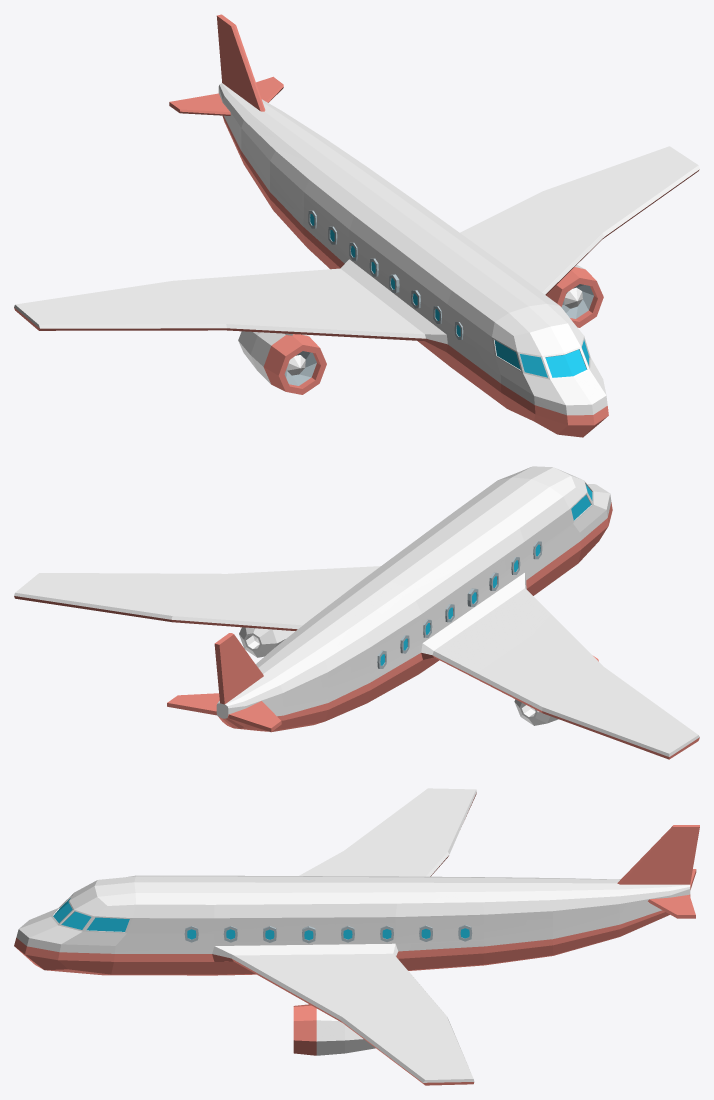
File: airplane_004.glb
The picture shows the model from 3 angles, top to bottom: view 1: azimuth 30°, elevation 25°; view 2: azimuth 150°, elevation 25°; view 3: azimuth 270°, elevation 25°; orthographic projection. The views are drawn at different scales.
Visible parts, largest first — view 1: object_0; view 2: object_0; view 3: object_0.
Part boxes in pixels (bbox=[...]): object_0: bbox=[14, 14, 699, 437]; object_0: bbox=[14, 466, 699, 759]; object_0: bbox=[14, 788, 699, 1085].
Size of the model in its own units: 5.58 by 1.5 by 5.54.
